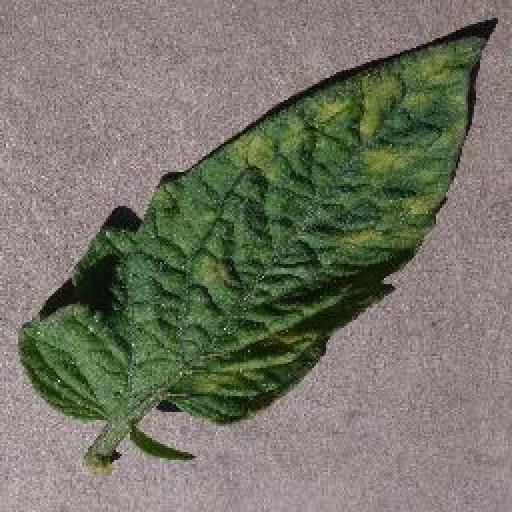disease_tomato: (18, 32, 488, 427)
